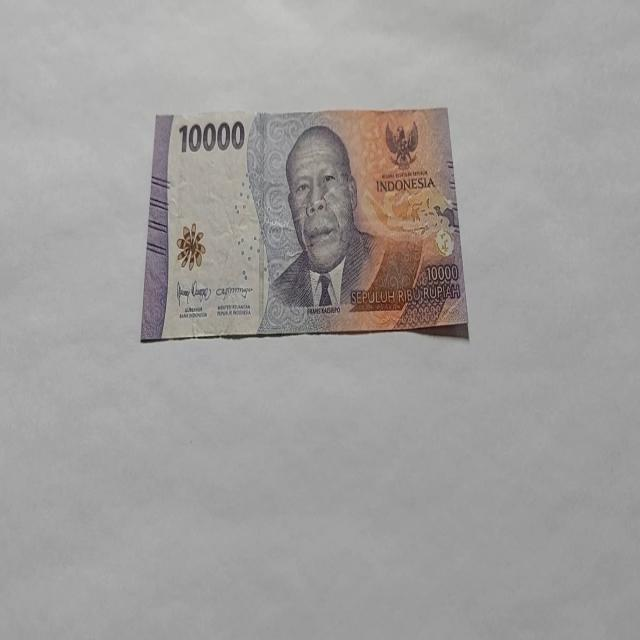sepuluh ribu rupiah: (140, 106, 470, 342), (254, 122, 426, 334)
